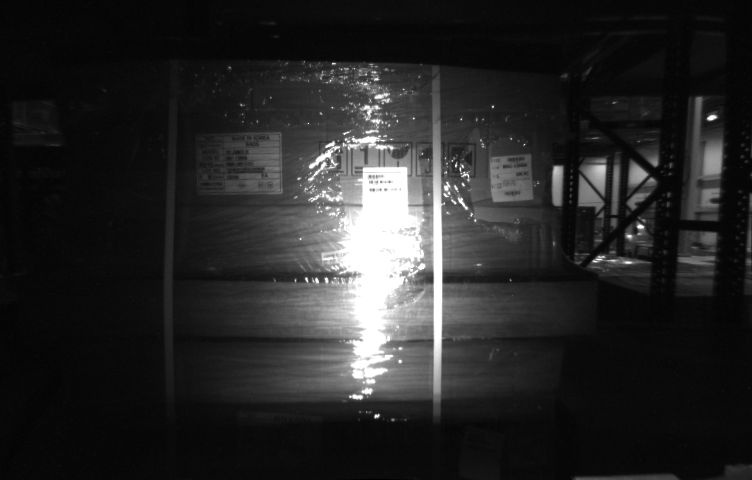True Barcode: (488, 156, 536, 204)
